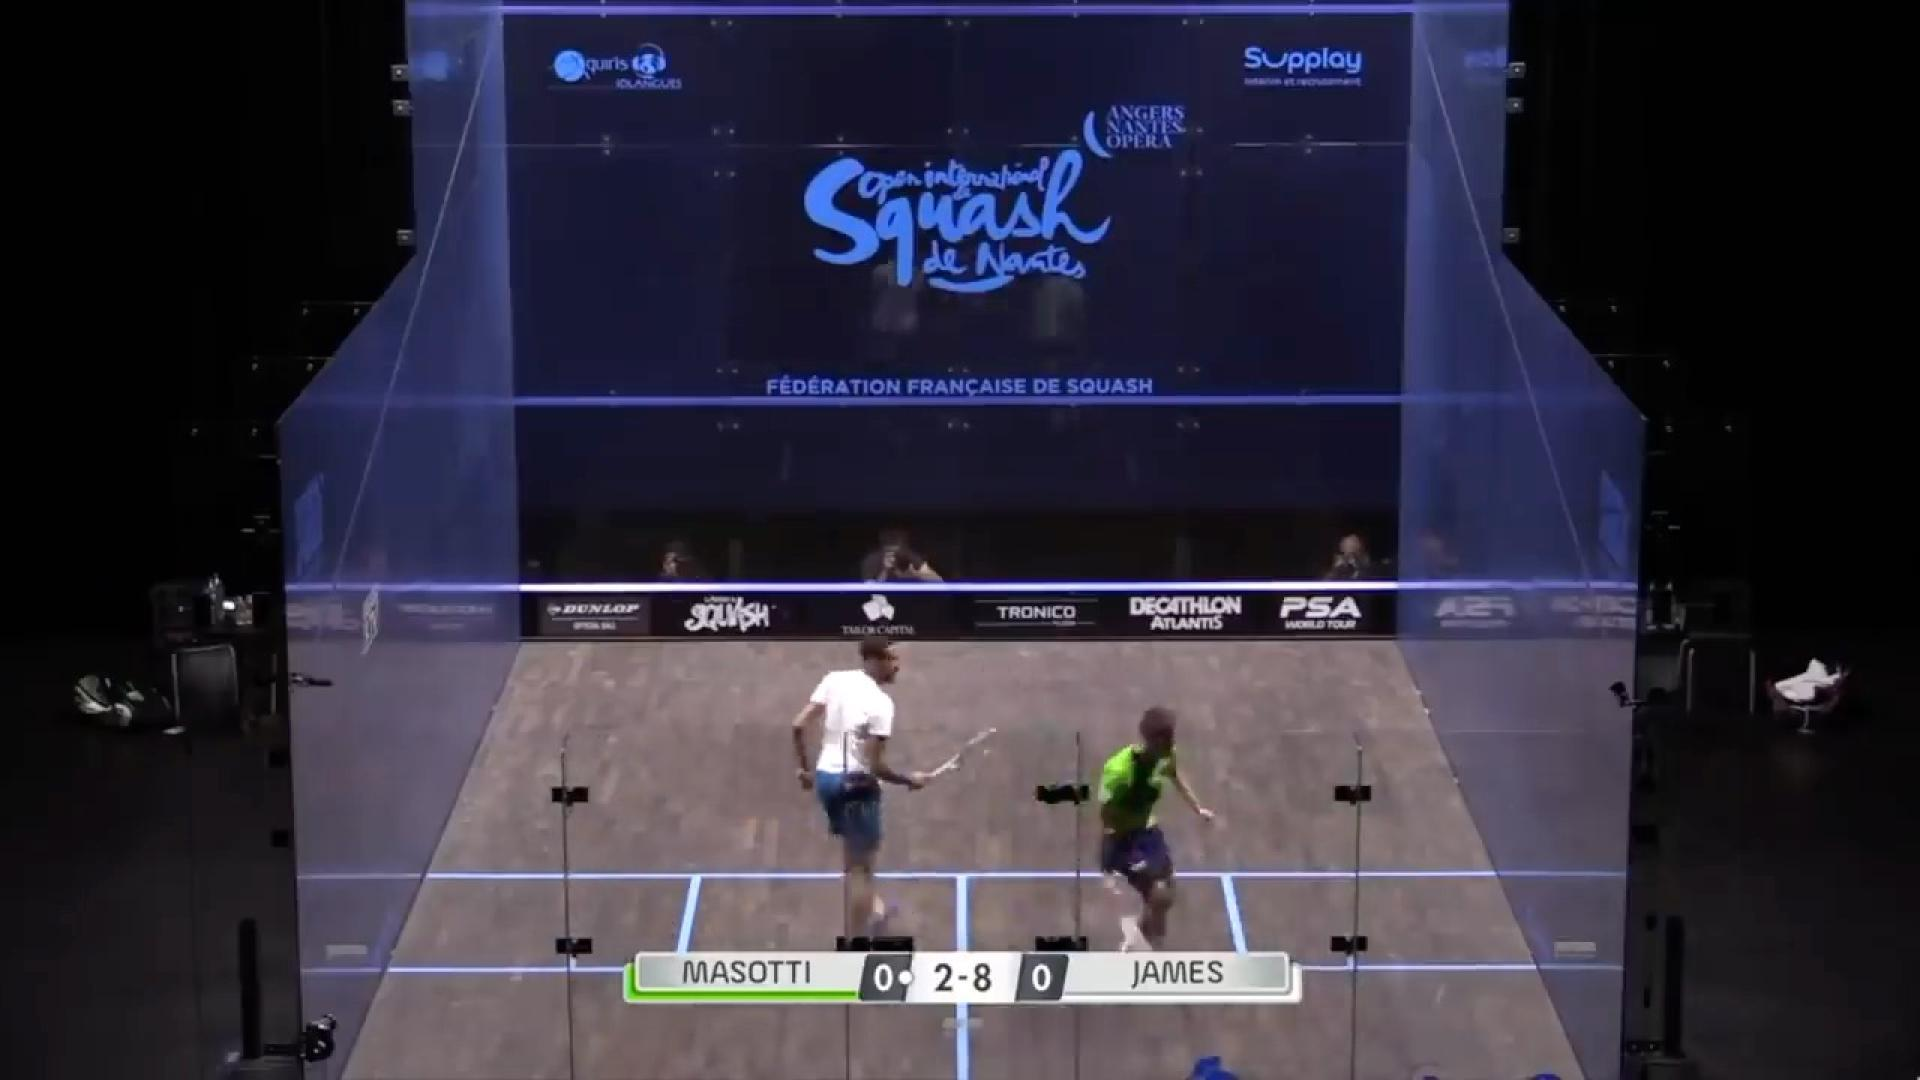Squash-Ball: (1412, 975, 1470, 1018)
